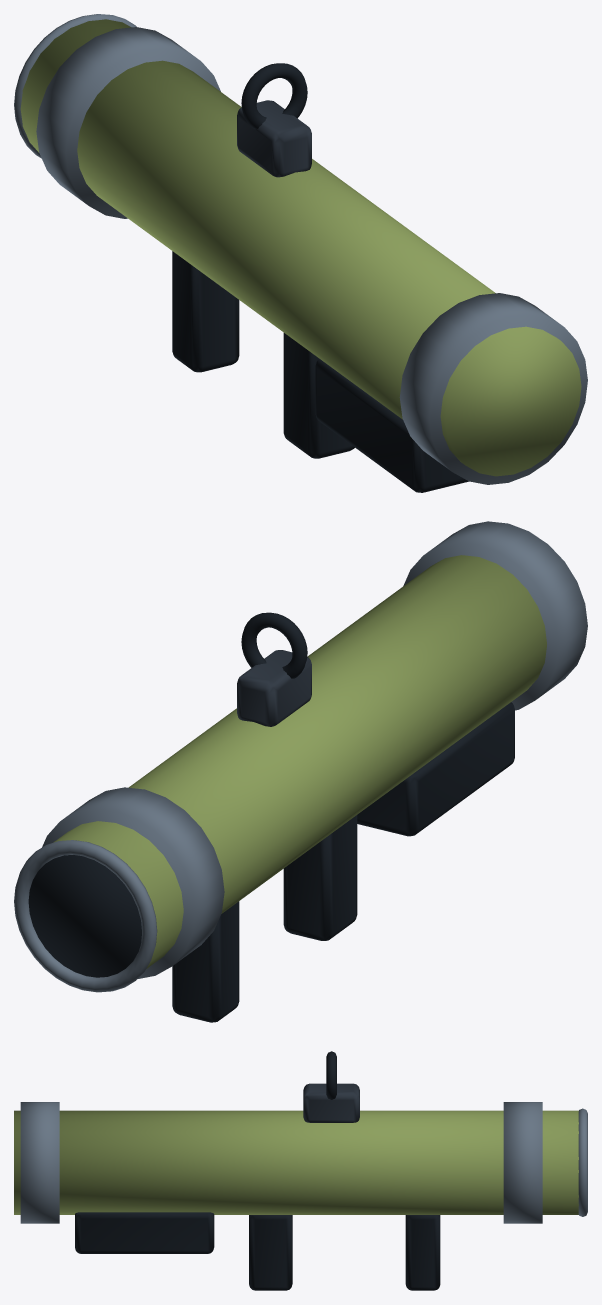
The model's file is rocket-launcher.glb.
3 renders of one model, top to bottom at view 1: azimuth 30°, elevation 25°; view 2: azimuth 150°, elevation 25°; view 3: azimuth 270°, elevation 25°, orthographic. The views are drawn at different scales.
Visible parts, largest first — view 1: shoulder tube, tube collar, front dark opening, sight pedestal; view 2: shoulder tube, front dark opening, tube collar, sight pedestal; view 3: shoulder tube, front dark opening, tube collar, sight pedestal.
Boxes of the visible parts, x1,y1,x2,y2 form: shoulder tube: (20,19,581,476); tube collar: (14,14,587,484); front dark opening: (172,63,468,492); sight pedestal: (237,100,311,177); shoulder tube: (53,555,546,968); front dark opening: (28,612,514,1022); tube collar: (14,521,587,992); sight pedestal: (237,650,311,726); shoulder tube: (14,1110,578,1214); front dark opening: (75,1051,440,1290); tube collar: (20,1102,587,1223); sight pedestal: (303,1083,359,1122).
Size of the model in its own units: 0.28 by 0.587 by 1.32.
